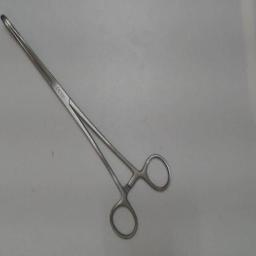Sponge Forceps: (0, 11, 176, 243)
